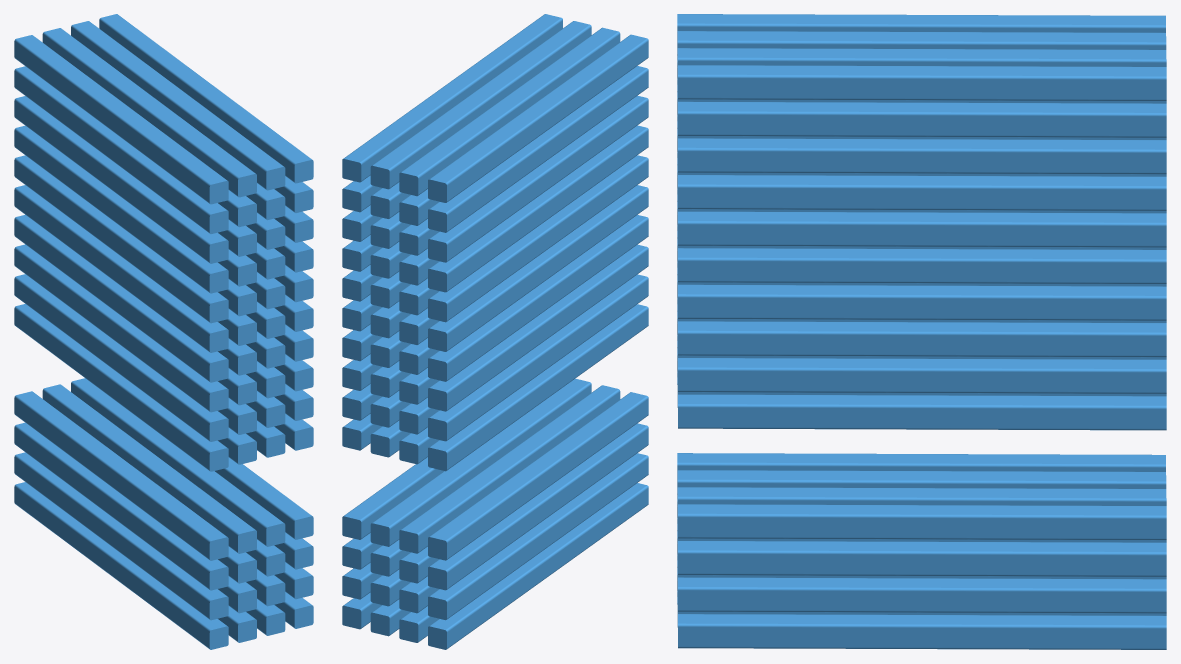
3 renders of one model, left to right at view 1: azimuth 30°, elevation 25°; view 2: azimuth 150°, elevation 25°; view 3: azimuth 270°, elevation 25°, orthographic. The views are drawn at different scales.
Visible parts, largest first — view 1: _; view 2: _; view 3: _.
Part boxes in pixels (left/top/right/bottom): _: left=14, top=14, right=313, bottom=649; _: left=342, top=14, right=648, bottom=649; _: left=677, top=14, right=1166, bottom=649.
Bounding box in the file's own units: 1.97 × 8.17 × 6.32.
